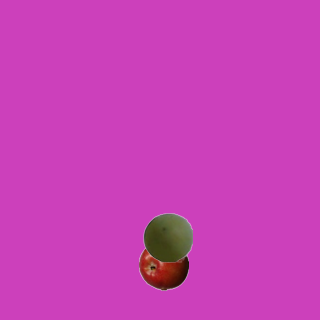Apple Braeburn: (138, 240, 188, 290)
Grape White 4: (142, 212, 192, 262)
